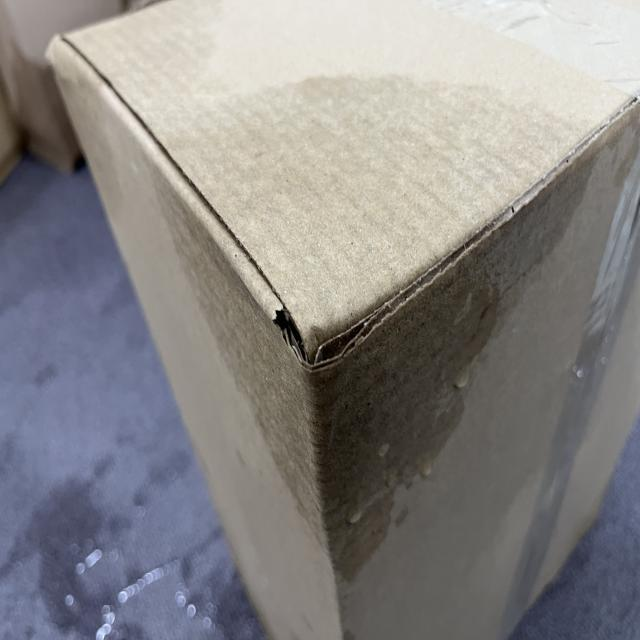wet: (145, 38, 599, 570)
